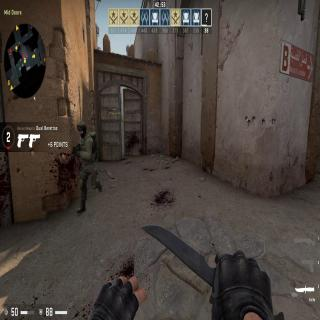CT-Body: (74, 121, 102, 216)
CT-Head: (77, 121, 87, 138)
